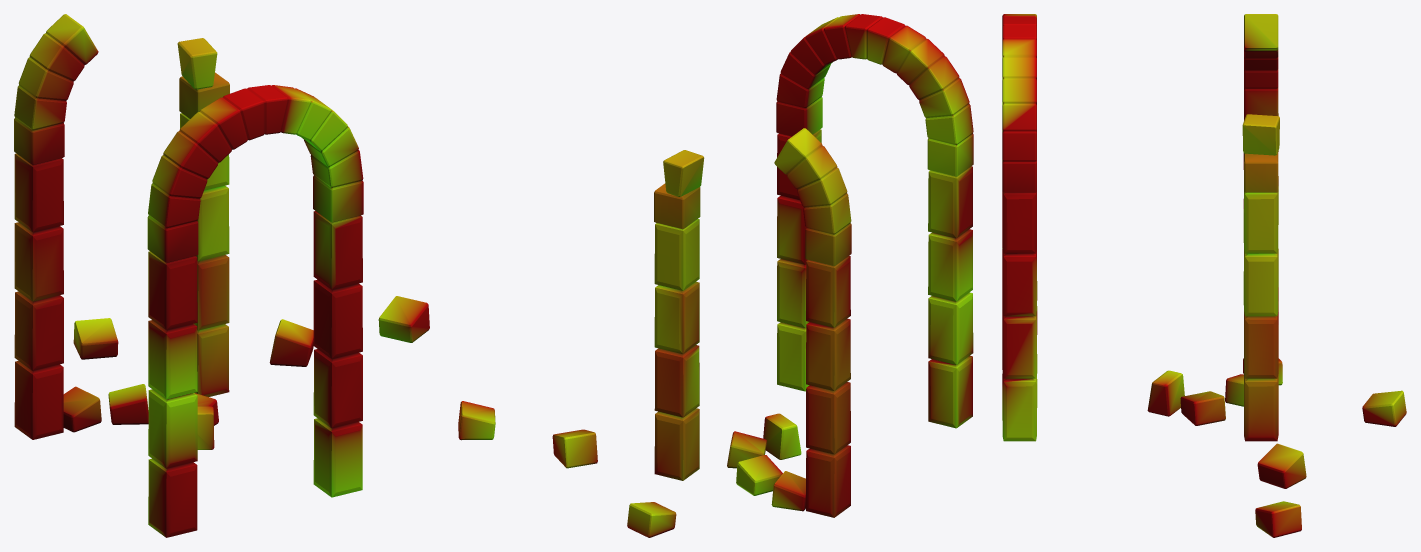
File: ruin_arch_model.obj
3 views of the same model, side by side, from view 1: azimuth 30°, elevation 25°; view 2: azimuth 150°, elevation 25°; view 3: azimuth 270°, elevation 25° (orthographic). The views are drawn at different scales.
Visible parts, largest first — view 1: Arch; view 2: Arch; view 3: Arch.
Part boxes in pixels (box(x1,y1,x2,y2)): Arch: box(14, 14, 429, 537); Arch: box(458, 14, 973, 537); Arch: box(1002, 14, 1406, 537).
Bounding box in the file's own units: 12.53 × 11.99 × 11.73.
